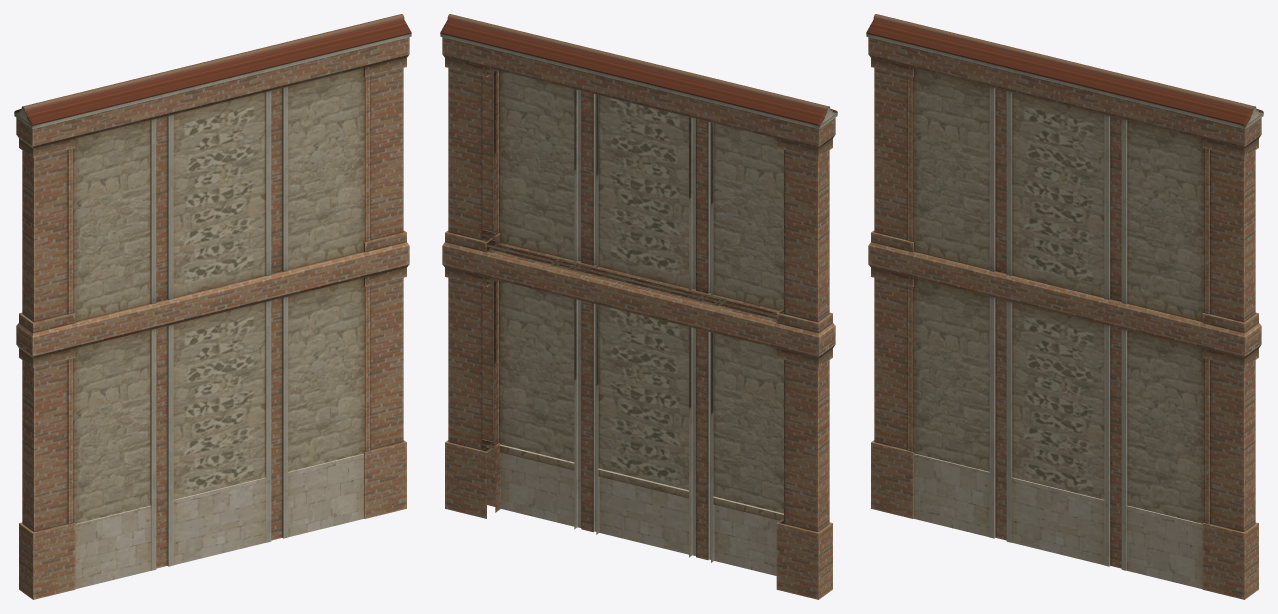
File: objects_un_c01buildingwall01.gltf
3 renders of one model, left to right at view 1: azimuth 30°, elevation 25°; view 2: azimuth 150°, elevation 25°; view 3: azimuth 330°, elevation 25°, orthographic.
Parts seen in each view (by area): view 1: objects_un_c01buildingwall01_mesh_shape:objects_un_c01buildi (×3); view 2: objects_un_c01buildingwall01_mesh_shape:objects_un_c01buildi (×3); view 3: objects_un_c01buildingwall01_mesh_shape:objects_un_c01buildi (×3).
Part boxes in pixels (x1,y1,x2,y2): objects_un_c01buildingwall01_mesh_shape:objects_un_c01buildi (×3): (14, 14, 411, 599); objects_un_c01buildingwall01_mesh_shape:objects_un_c01buildi (×3): (440, 14, 837, 599); objects_un_c01buildingwall01_mesh_shape:objects_un_c01buildi (×3): (866, 14, 1263, 599).
Bounding box in the file's own units: 12.58 × 15.49 × 1.07.
Materials: 3 (3 with a texture image).
